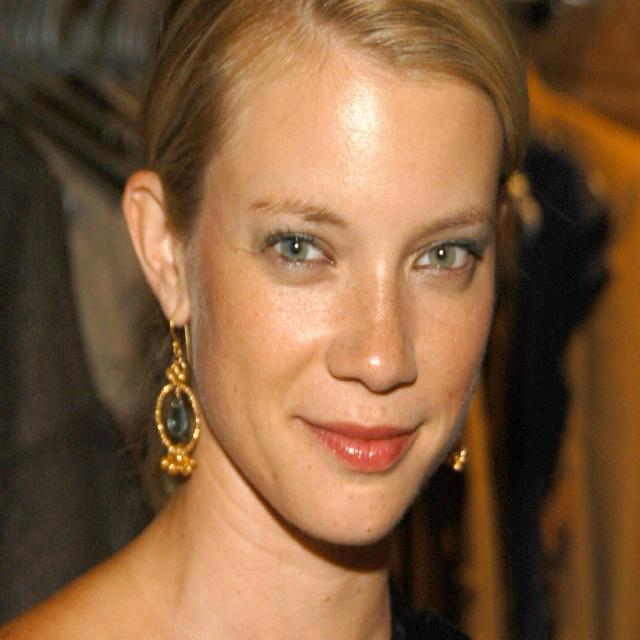no-earmuff: (112, 158, 206, 342)
